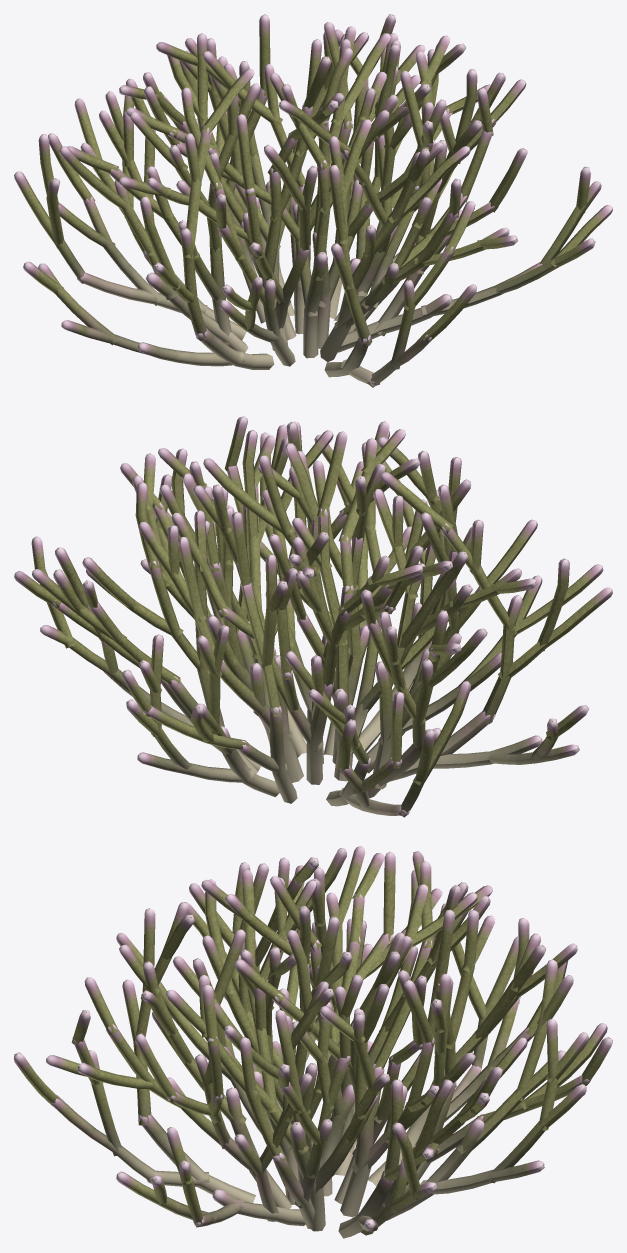
File: Coral_Branch_B.gltf
The picture shows the model from 3 angles, top to bottom: view 1: azimuth 30°, elevation 25°; view 2: azimuth 150°, elevation 25°; view 3: azimuth 270°, elevation 25°; orthographic projection. The views are drawn at different scales.
Parts seen in each view (by area): view 1: Coral_Branch_B; view 2: Coral_Branch_B; view 3: Coral_Branch_B.
Boxes of the visible parts, x1,y1,x2,y2 form: Coral_Branch_B: (14,14,612,387); Coral_Branch_B: (14,416,612,817); Coral_Branch_B: (14,846,612,1238).
Size of the model in its own units: 0.7177 by 0.4208 by 0.679.
1 material, 1 textured.
